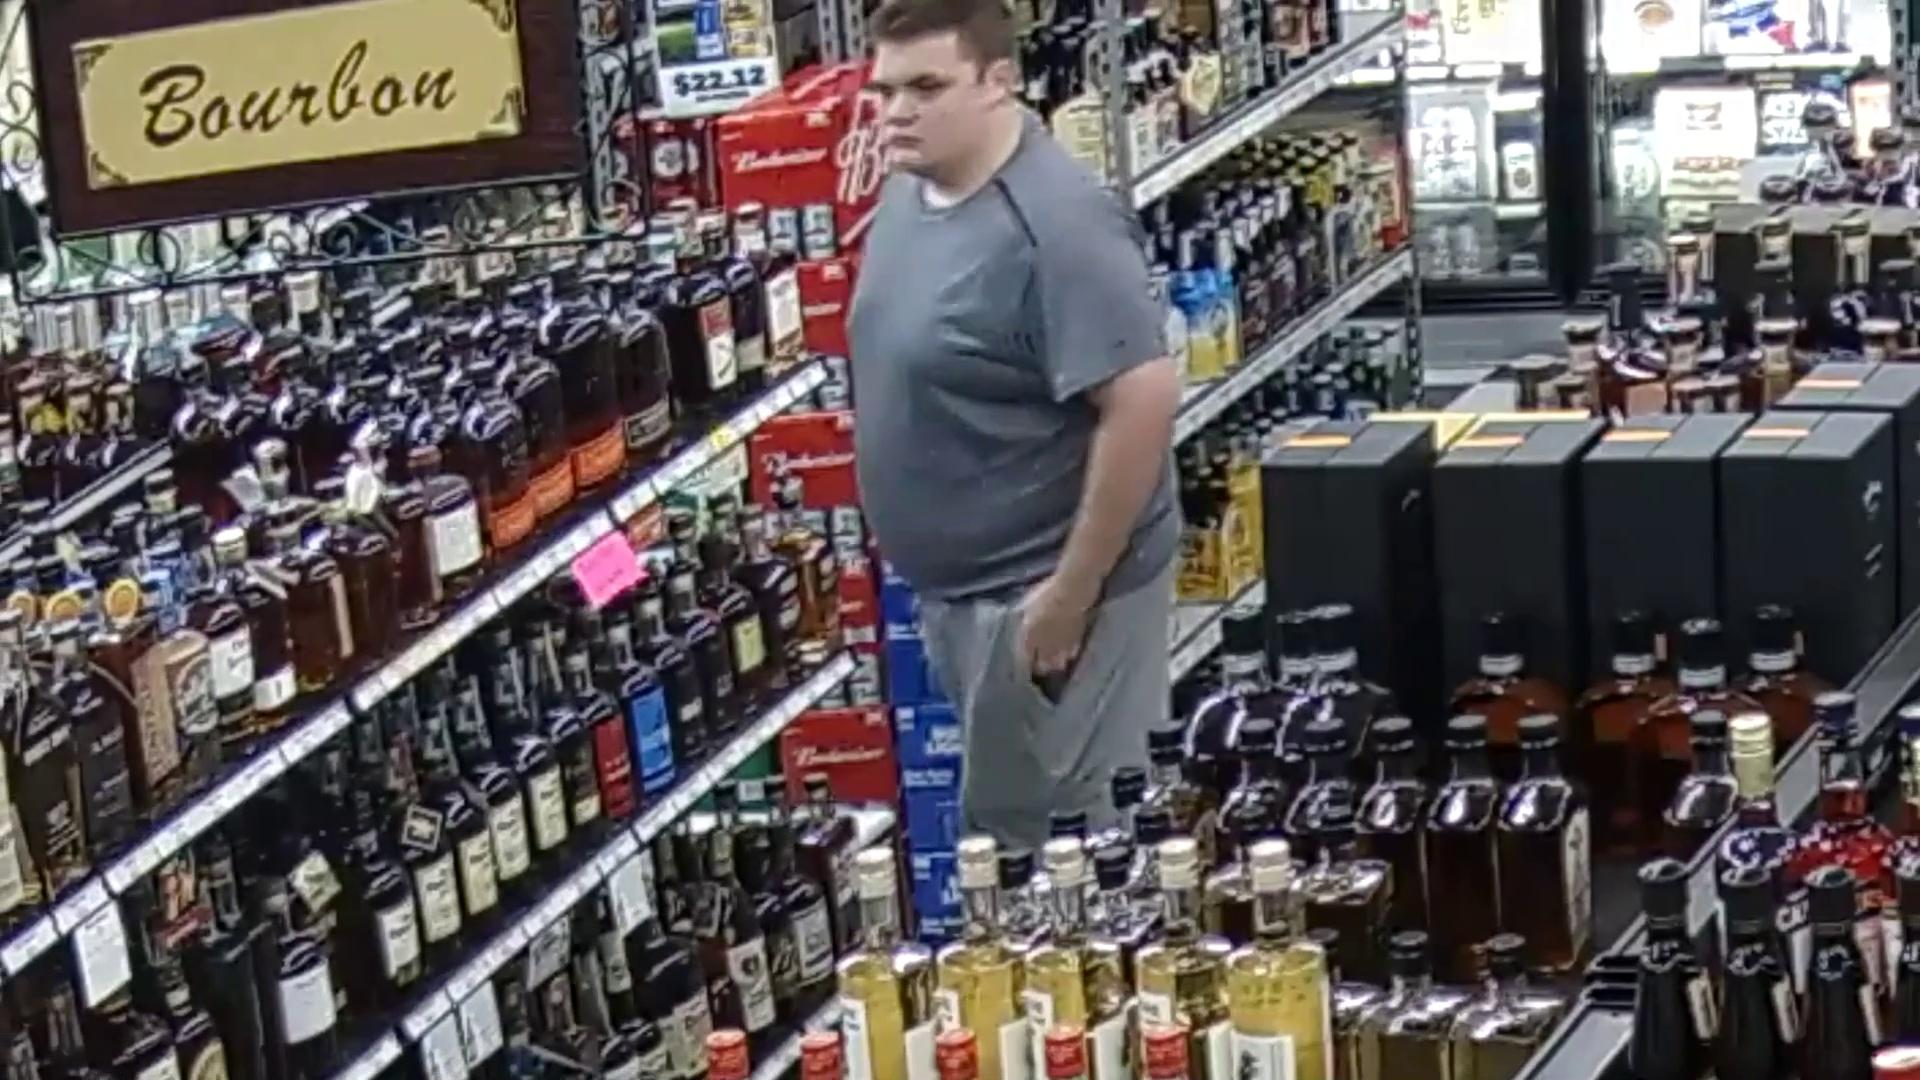Product: (978, 596, 1089, 741)
Shoplifting: (671, 0, 1407, 990)
